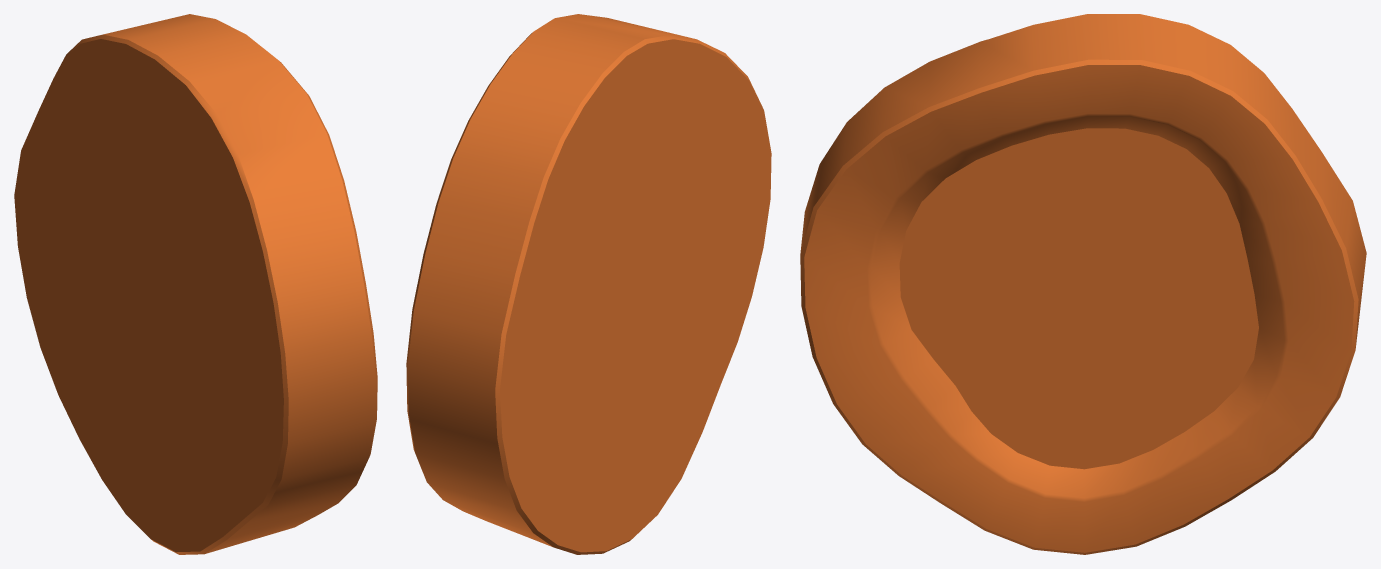
File: bronzemedal.fbx
3 views of the same model, side by side, from view 1: azimuth 30°, elevation 25°; view 2: azimuth 150°, elevation 25°; view 3: azimuth 270°, elevation 25° (orthographic). The views are drawn at different scales.
Parts seen in each view (by area): view 1: BronzeLowPoly; view 2: BronzeLowPoly; view 3: BronzeLowPoly.
Boxes of the visible parts, box(x1,y1,x2,y2) form: BronzeLowPoly: box(14, 14, 377, 554); BronzeLowPoly: box(406, 14, 771, 554); BronzeLowPoly: box(800, 14, 1366, 554).
Bounding box in the file's own units: 46.86 × 193 × 198.
